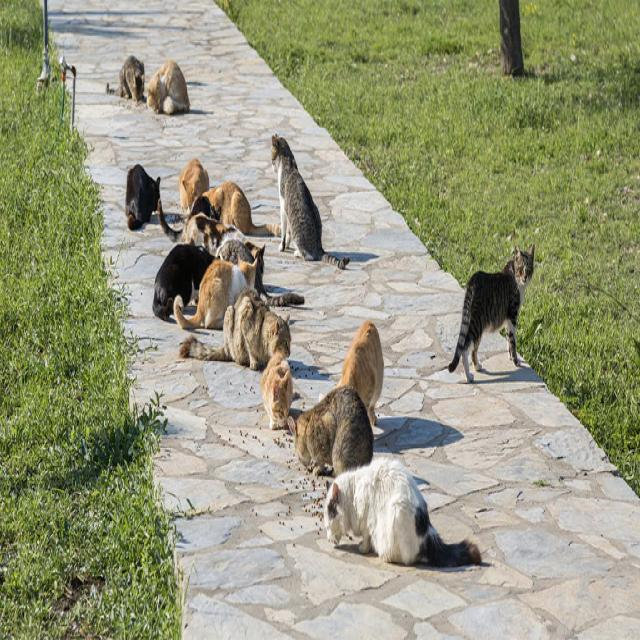cat: (324, 456, 481, 564), (448, 246, 534, 381), (271, 136, 349, 268), (180, 289, 291, 370), (288, 387, 374, 475), (216, 238, 305, 307), (174, 257, 258, 330), (152, 243, 214, 320), (339, 320, 384, 425), (204, 182, 280, 236), (166, 215, 245, 255), (261, 351, 294, 429), (146, 61, 190, 114), (125, 164, 160, 230), (106, 56, 145, 101), (179, 159, 210, 210), (190, 195, 219, 220)
